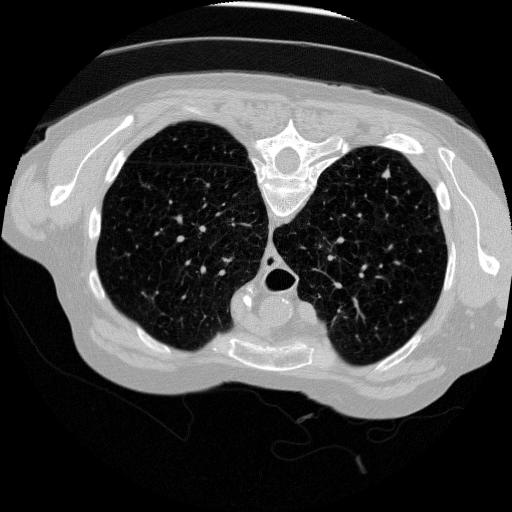nodule: (379, 166, 397, 184)
